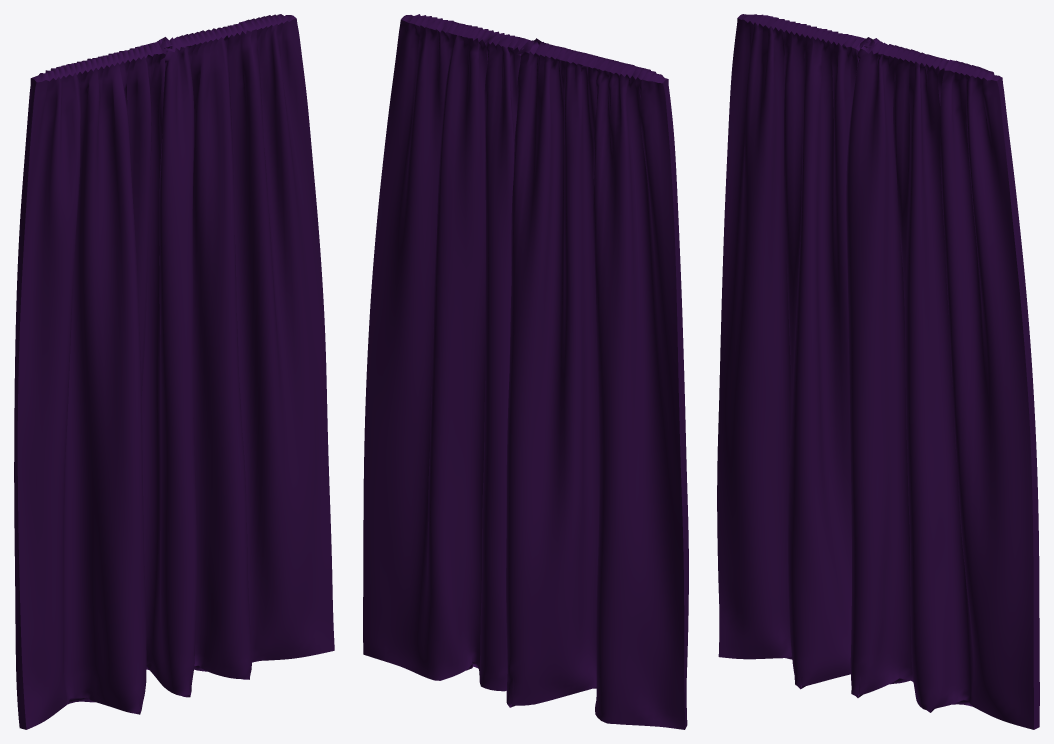
The model's file is violet curtain.fbx.
3 views of the same model, side by side, from view 1: azimuth 30°, elevation 25°; view 2: azimuth 150°, elevation 25°; view 3: azimuth 330°, elevation 25° (orthographic).
Visible parts, largest first — view 1: yellow_curtain2; view 2: yellow_curtain2; view 3: yellow_curtain2.
Part boxes in pixels (x1,y1,x2,y2): yellow_curtain2: [14, 14, 334, 729]; yellow_curtain2: [363, 14, 688, 729]; yellow_curtain2: [717, 14, 1039, 729].
Bounding box in the file's own units: 29.1 × 57.25 × 7.44.
